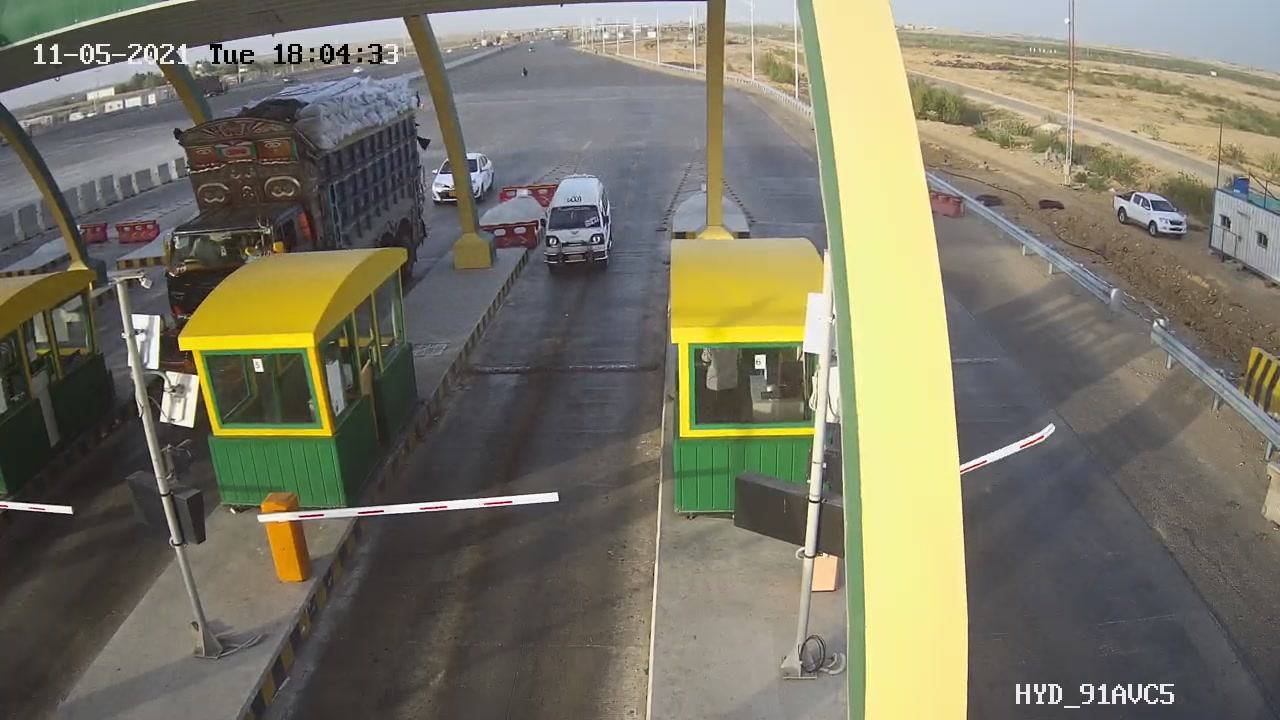F1: (518, 159, 634, 290)
